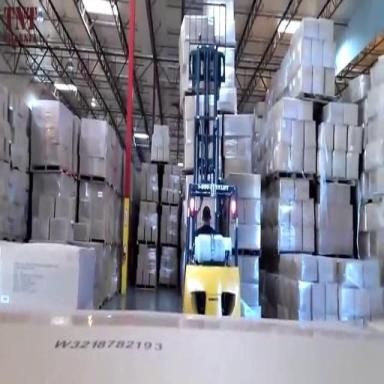forklift: (178, 39, 245, 322)
